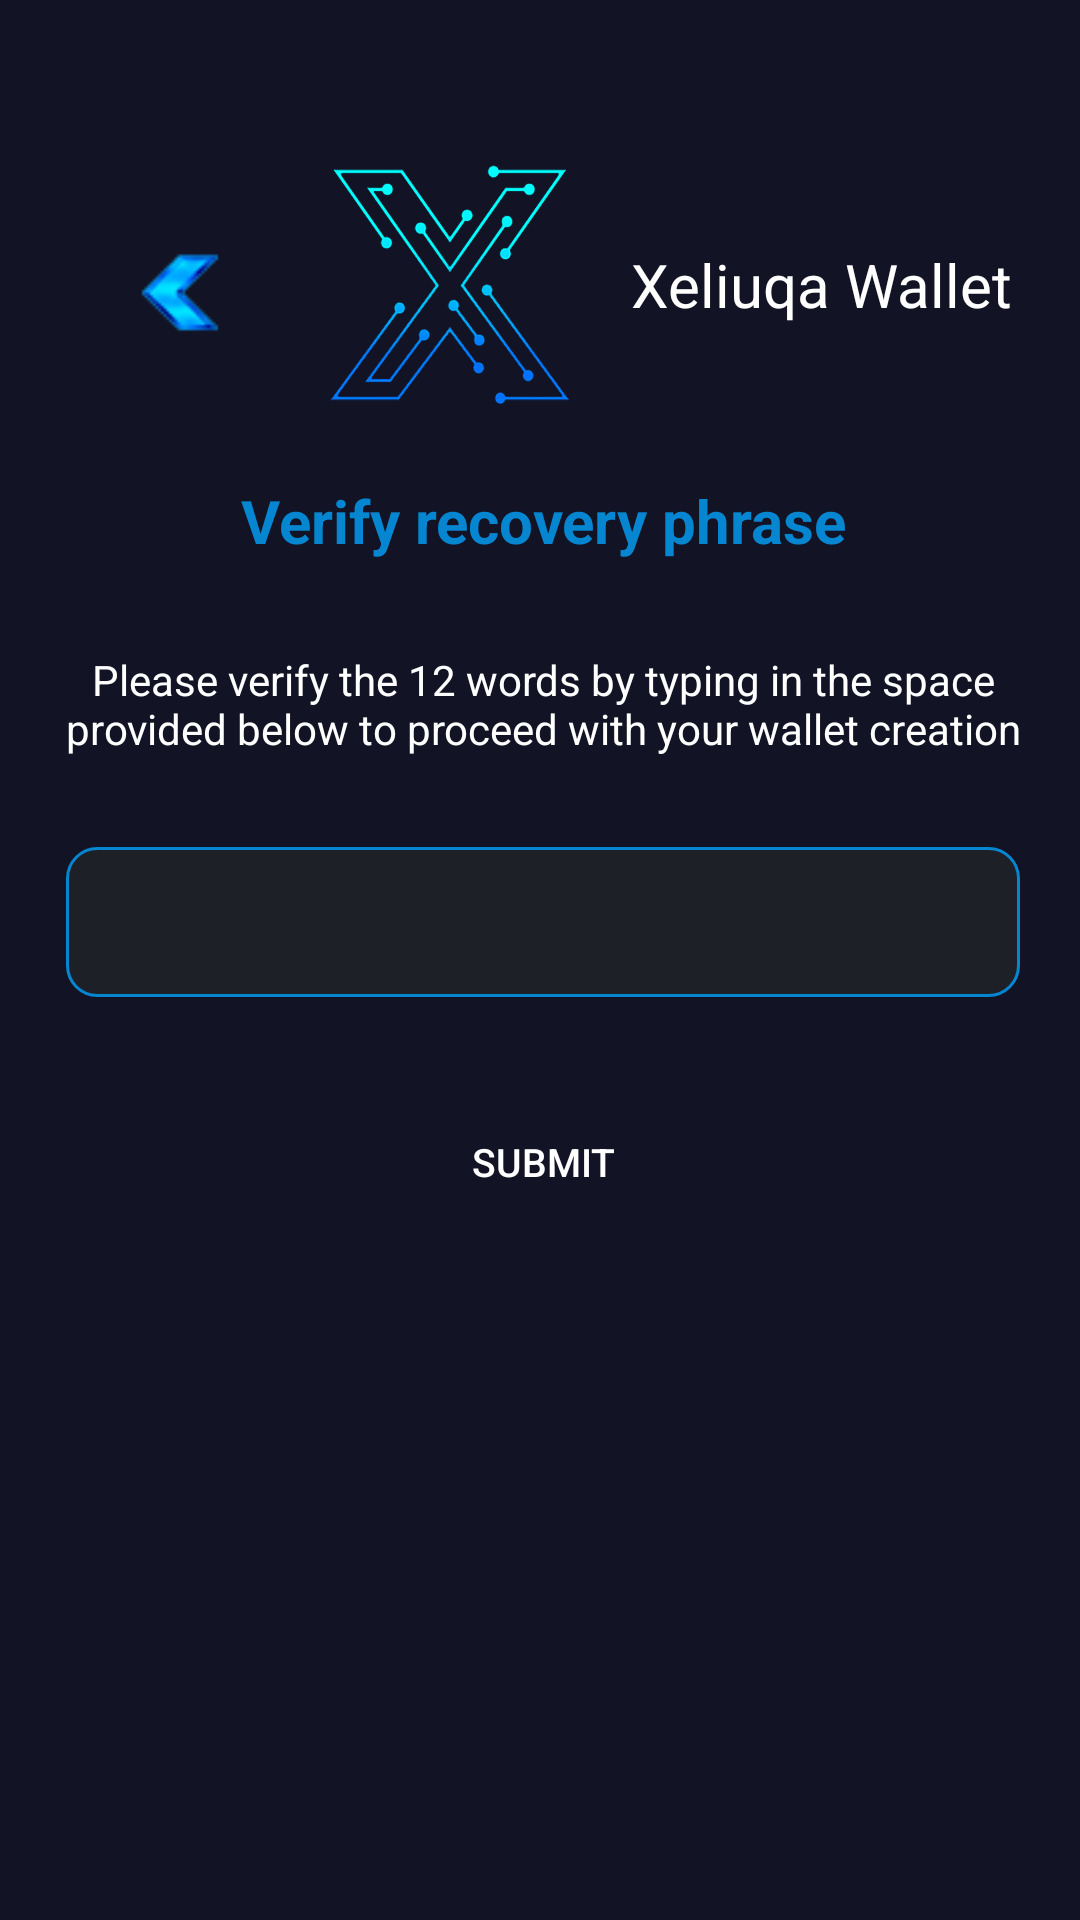

Point at icon controls on the screen. Image size 1080×1920, points as (x=x, y=y).
arrow left: (x=180, y=292)
